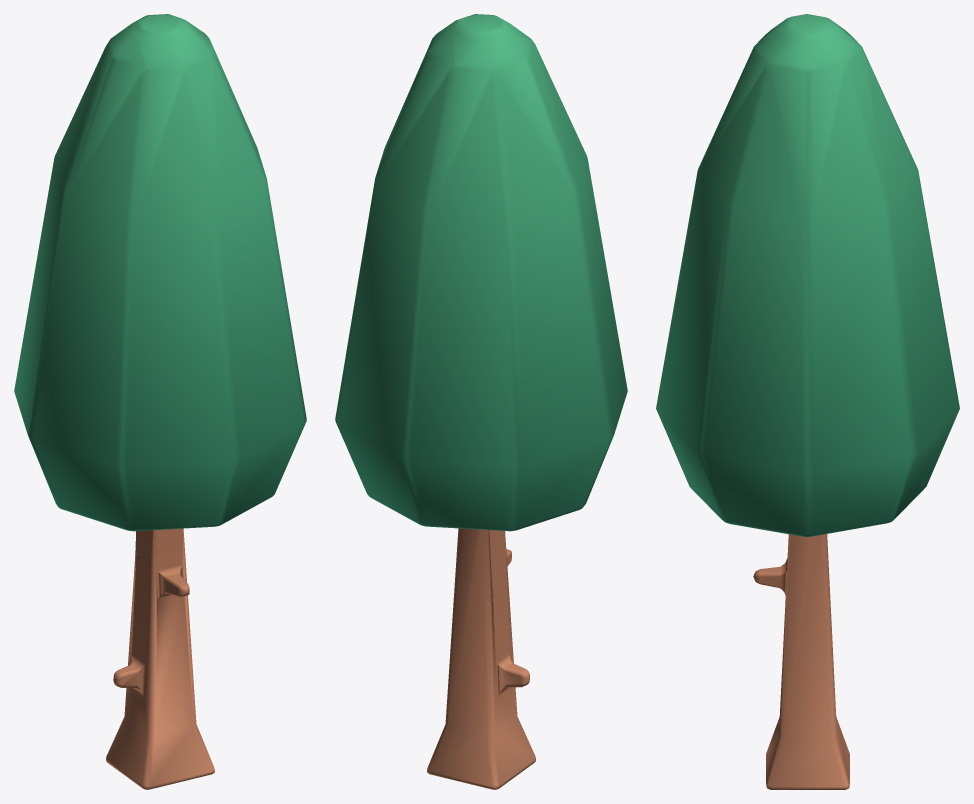
File: tree-high-round.glb
3 views of the same model, side by side, from view 1: azimuth 30°, elevation 25°; view 2: azimuth 150°, elevation 25°; view 3: azimuth 270°, elevation 25° (orthographic).
Parts seen in each view (by area): view 1: tree-high-round; view 2: tree-high-round; view 3: tree-high-round.
Part boxes in pixels (x1=…): tree-high-round: x1=14, y1=14, x2=306, y2=789; tree-high-round: x1=335, y1=14, x2=627, y2=789; tree-high-round: x1=656, y1=14, x2=959, y2=789.
Bounding box in the file's own units: 1.01 × 2.75 × 1.01.
1 material, 1 textured.
